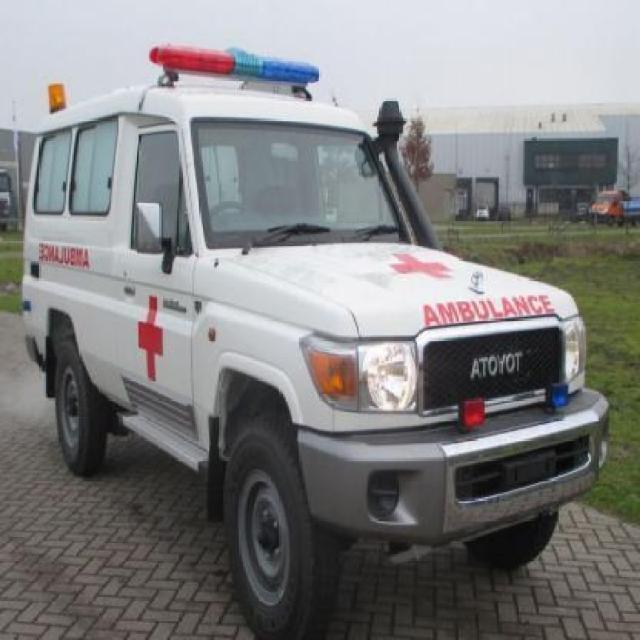emergency: (17, 41, 611, 638)
